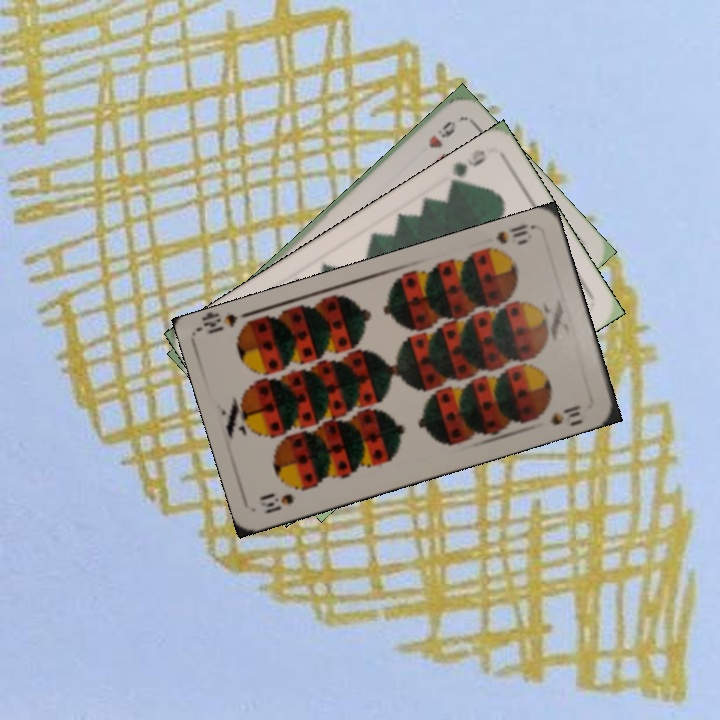G9: (445, 145, 490, 192)
H9: (424, 116, 459, 151)
S10: (480, 220, 535, 257), (255, 489, 297, 516)
